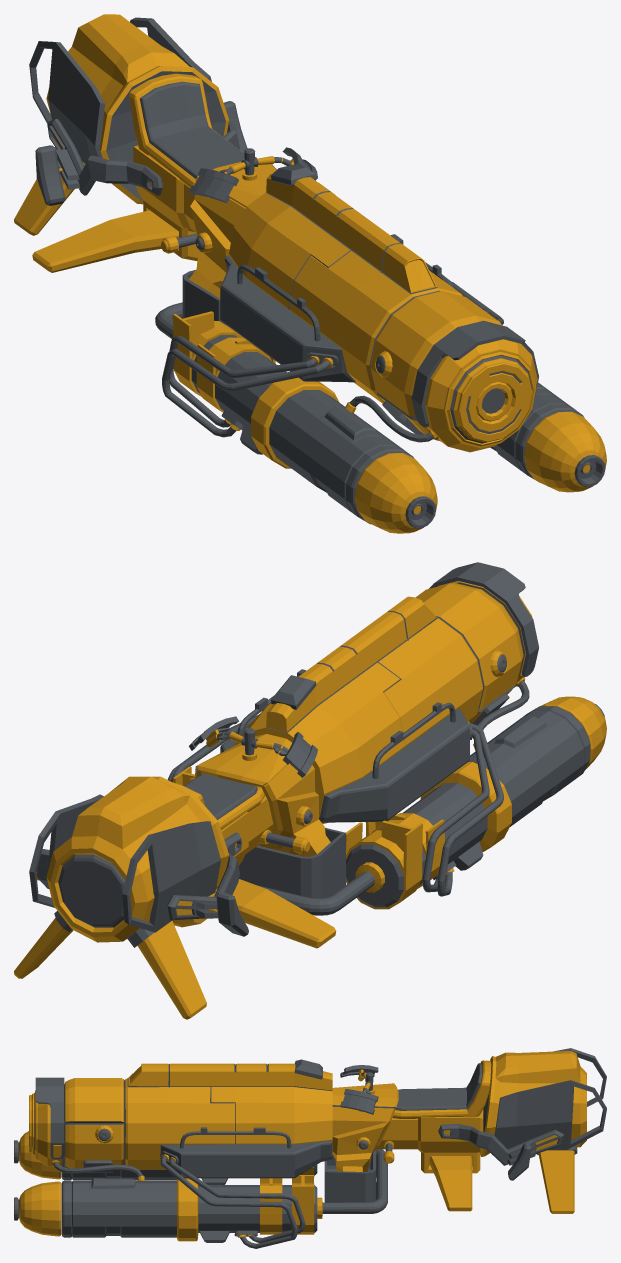
Rendered from Personal_Vehicle_03_Yellow.fbx.
The picture shows the model from 3 angles, top to bottom: view 1: azimuth 30°, elevation 25°; view 2: azimuth 150°, elevation 25°; view 3: azimuth 270°, elevation 25°; orthographic projection. The views are drawn at different scales.
Visible parts, largest first — view 1: Personal_Vehicle_03_Yellow; view 2: Personal_Vehicle_03_Yellow; view 3: Personal_Vehicle_03_Yellow.
Boxes of the visible parts, <box> form: Personal_Vehicle_03_Yellow: <box>14,14,606,533</box>; Personal_Vehicle_03_Yellow: <box>14,562,606,1019</box>; Personal_Vehicle_03_Yellow: <box>14,1048,606,1248</box>.
Size of the model in its own units: 181 by 135 by 465.
Materials: 2 (2 with a texture image).
